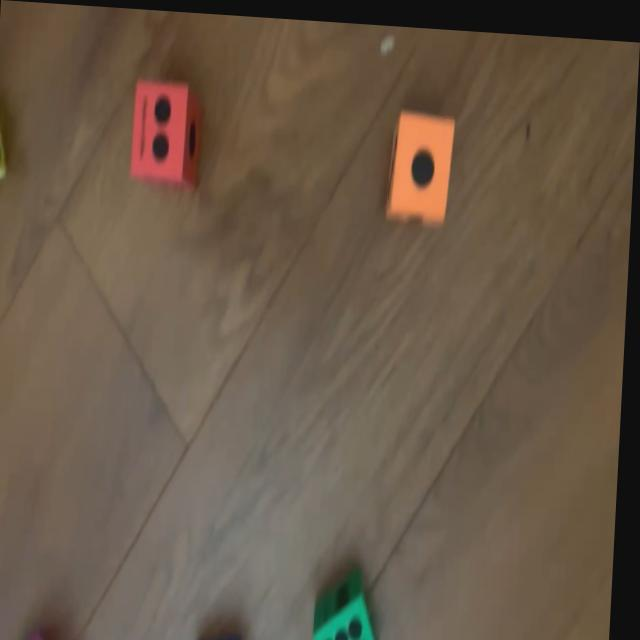cube: (129, 77, 202, 187), (316, 560, 393, 640)
